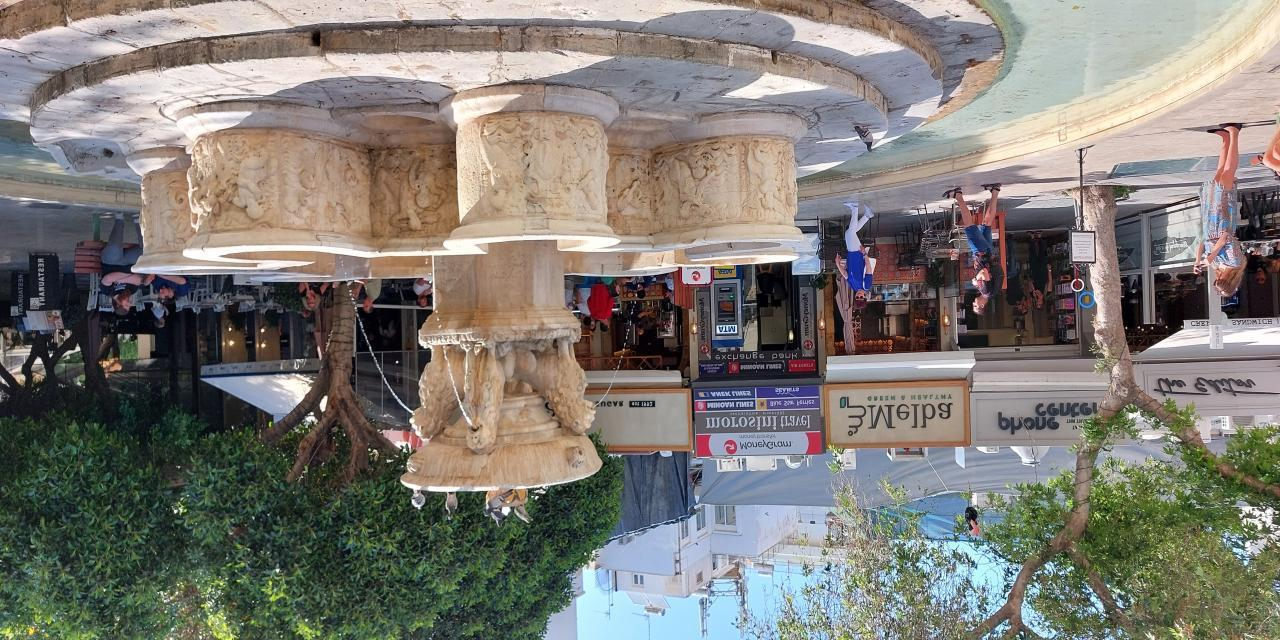Liontaria: (129, 85, 808, 499)
